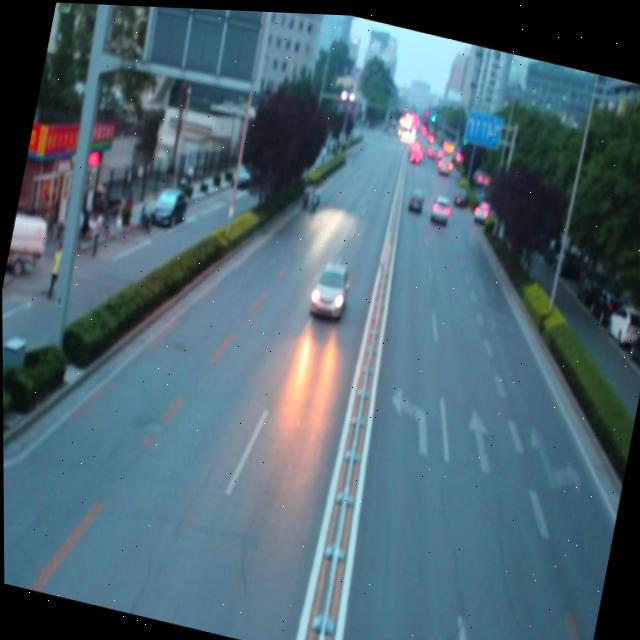car: (306, 257, 354, 320)
